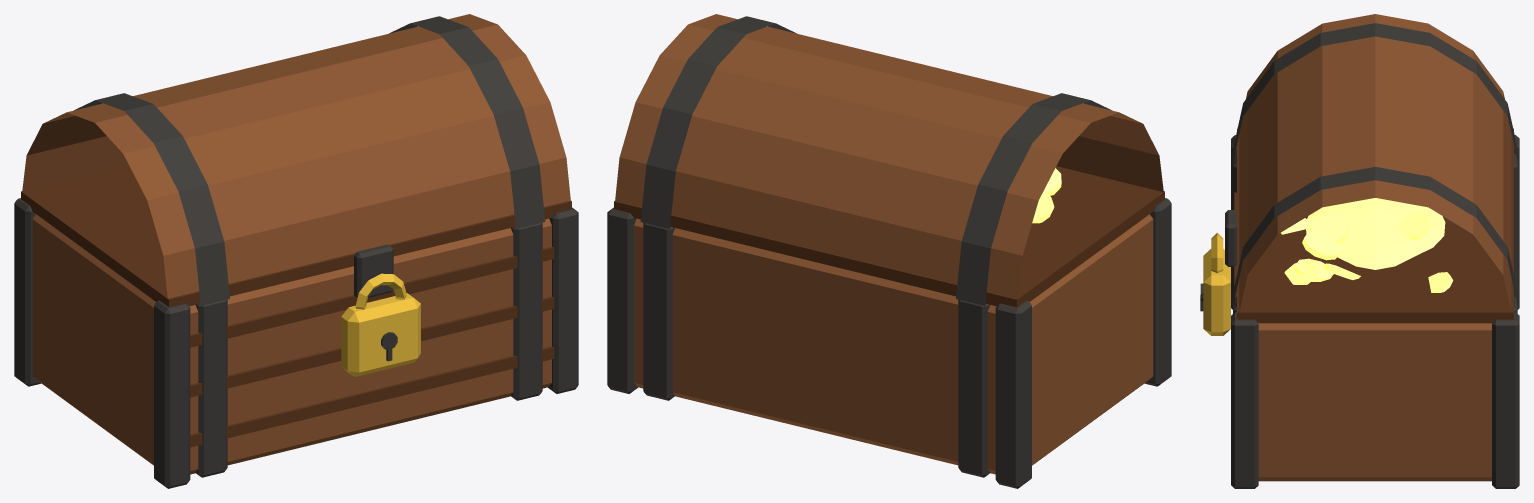
Rendered from prop_chest_locked_v01.glb.
The picture shows the model from 3 angles, left to right: view 1: azimuth 30°, elevation 25°; view 2: azimuth 150°, elevation 25°; view 3: azimuth 270°, elevation 25°; orthographic projection. The views are drawn at different scales.
Parts seen in each view (by area): view 1: chest_lid, chest_base; view 2: chest_lid, chest_base; view 3: chest_lid, chest_base.
Boxes of the visible parts, x1,y1,x2,y2 form: chest_lid: (21,14,571,307); chest_base: (14,198,578,488); chest_lid: (614,14,1164,307); chest_base: (607,168,1171,488); chest_lid: (1232,14,1518,323); chest_base: (1200,135,1519,488).
Bounding box in the file's own units: 1.13 × 0.822 × 0.808.
